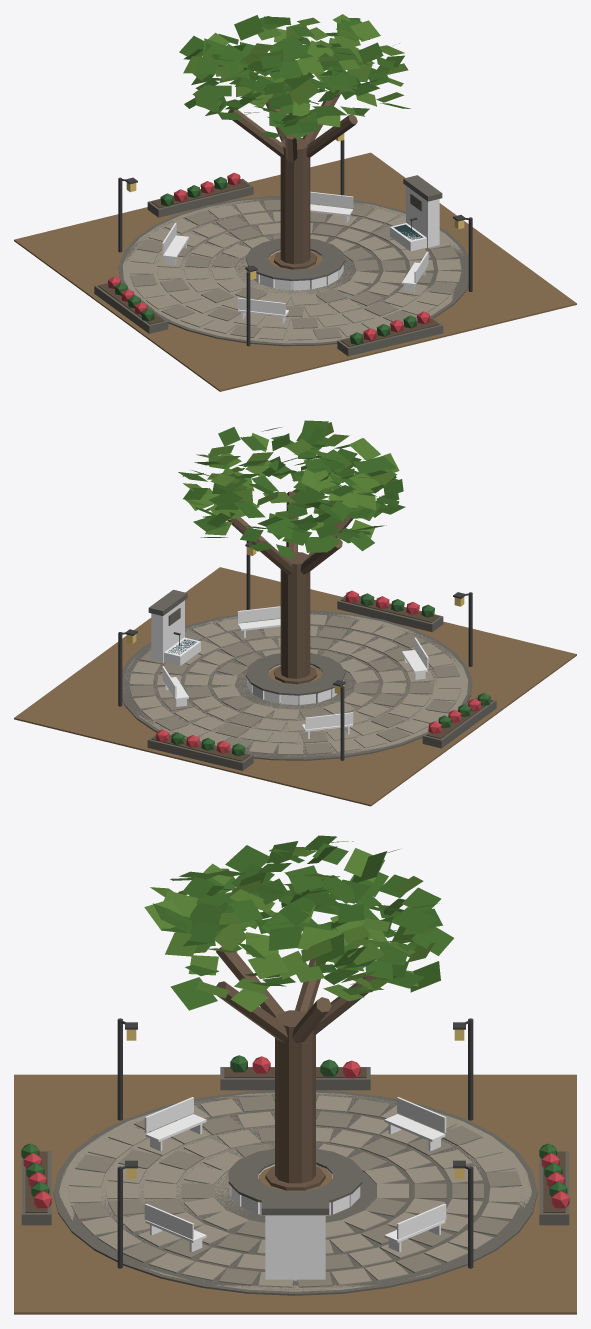
The model's file is meydan.glb.
3 renders of one model, top to bottom at view 1: azimuth 30°, elevation 25°; view 2: azimuth 150°, elevation 25°; view 3: azimuth 270°, elevation 25°, orthographic. The views are drawn at different scales.
Parts seen in each view (by area): view 1: BankAyak; view 2: BankAyak; view 3: BankAyak.
Part boxes in pixels (<box>): BankAyak: <box>14,14,576,391</box>; BankAyak: <box>14,420,576,806</box>; BankAyak: <box>14,835,576,1314</box>.
Bounding box in the file's own units: 1 × 0.6169 × 1.
